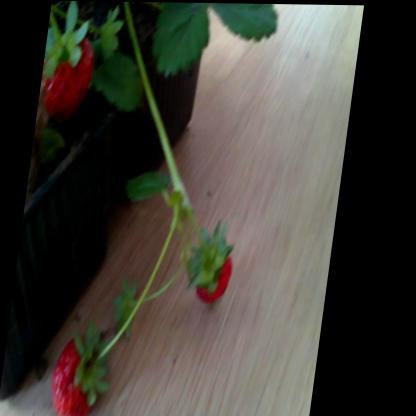ripe: (54, 338, 130, 416), (46, 23, 99, 105), (198, 244, 252, 301)
